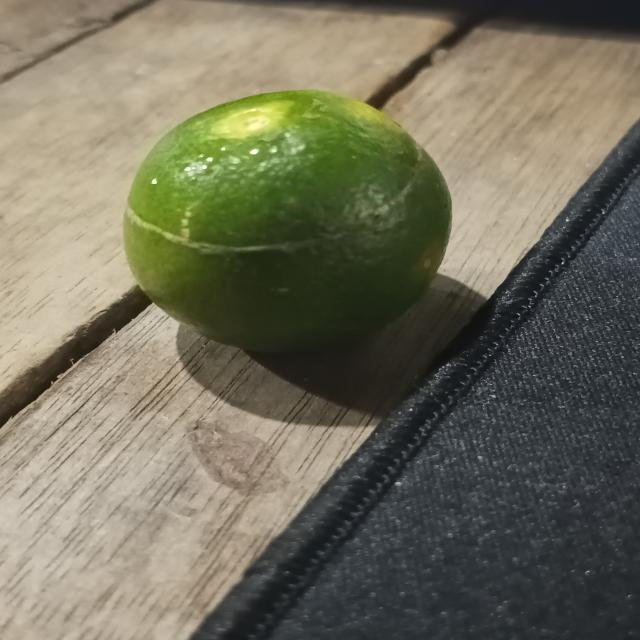thrips: (121, 89, 449, 348)
